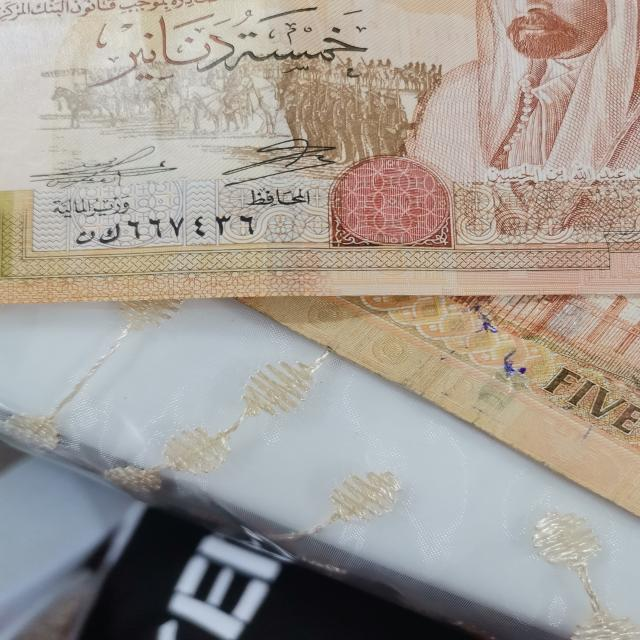5-dinar: (0, 0, 640, 302), (230, 296, 636, 519)
